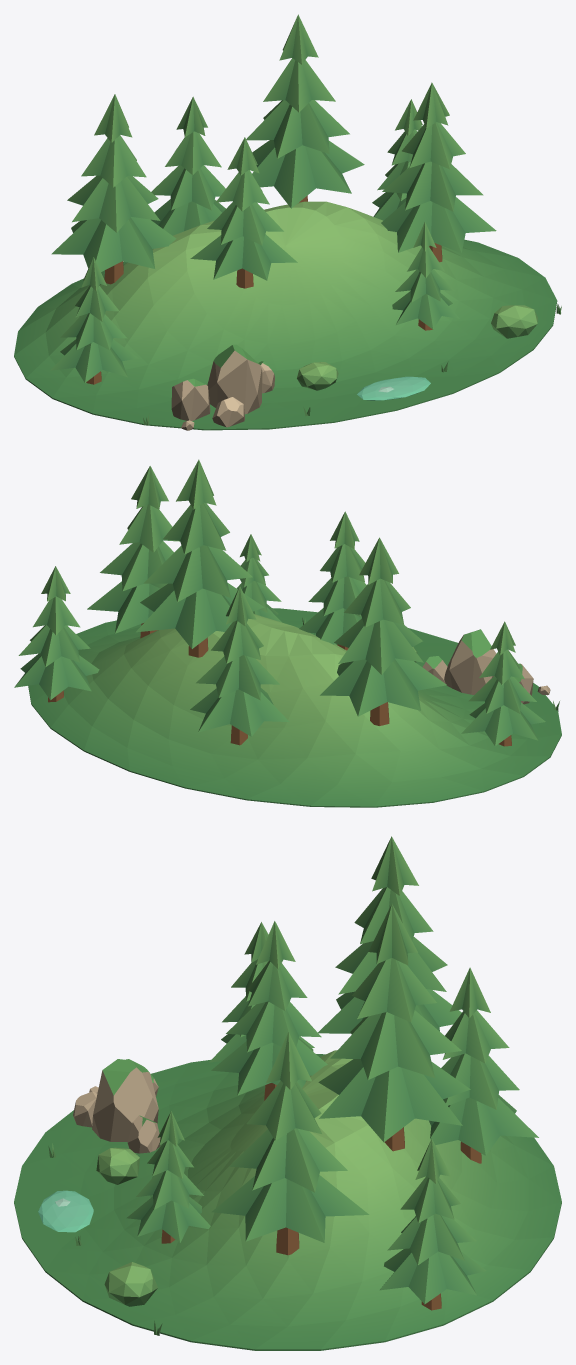
The model's file is ranch_border_chunk_h_m.fbx.
The picture shows the model from 3 angles, top to bottom: view 1: azimuth 30°, elevation 25°; view 2: azimuth 150°, elevation 25°; view 3: azimuth 270°, elevation 25°; orthographic projection. The views are drawn at different scales.
Visible parts, largest first — view 1: ranch_border_chunk_h_m; view 2: ranch_border_chunk_h_m; view 3: ranch_border_chunk_h_m.
Part boxes in pixels (left/top/right/bottom): ranch_border_chunk_h_m: left=14, top=14, right=561, bottom=430; ranch_border_chunk_h_m: left=14, top=459, right=561, bottom=807; ranch_border_chunk_h_m: left=14, top=836, right=561, bottom=1350.
Bounding box in the file's own units: 53.61 × 28.24 × 42.
